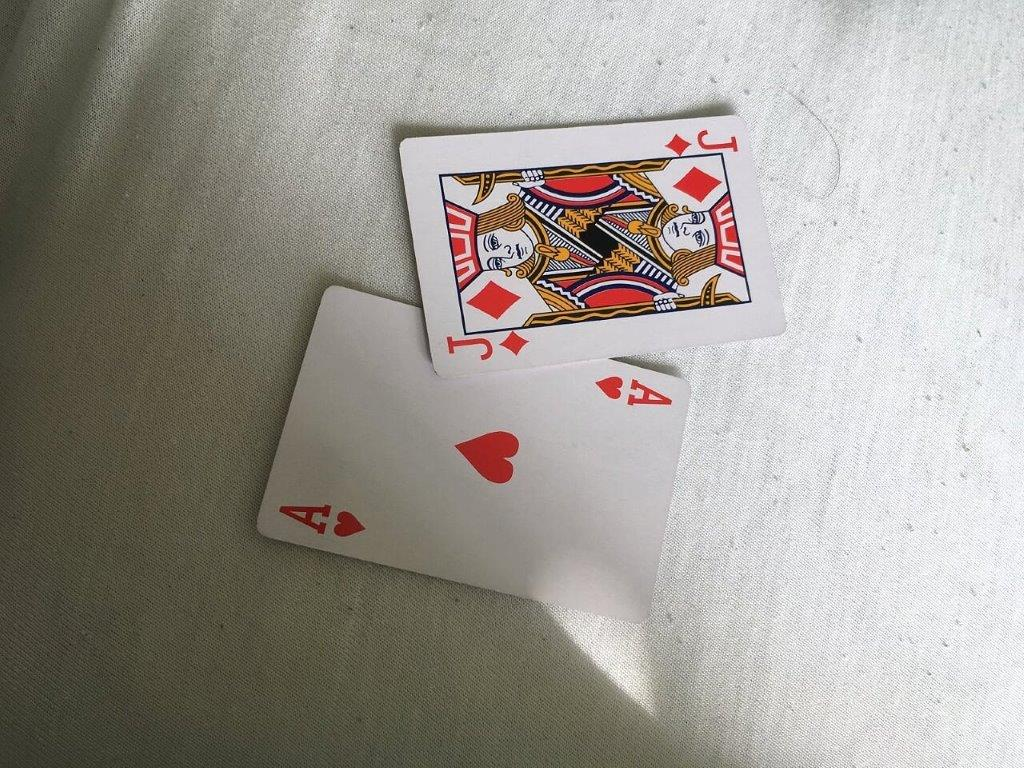AH: (254, 383, 689, 626)
JD: (396, 112, 789, 382)
